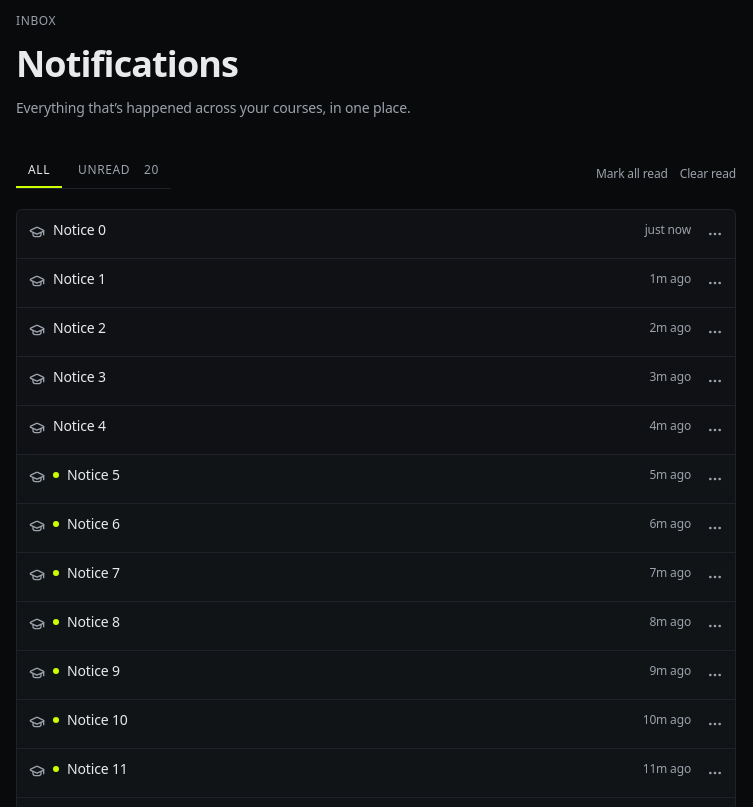
it: NotificationsPage › deletes a row from its kebab without firing navigation or read
This screenshot has width=753, height=807.
Expected: the text "Notice 0" is shown, [53,220,106,240]
Click the button named "Actions for “Notice 7”": (715, 577) [699,561,731,593]
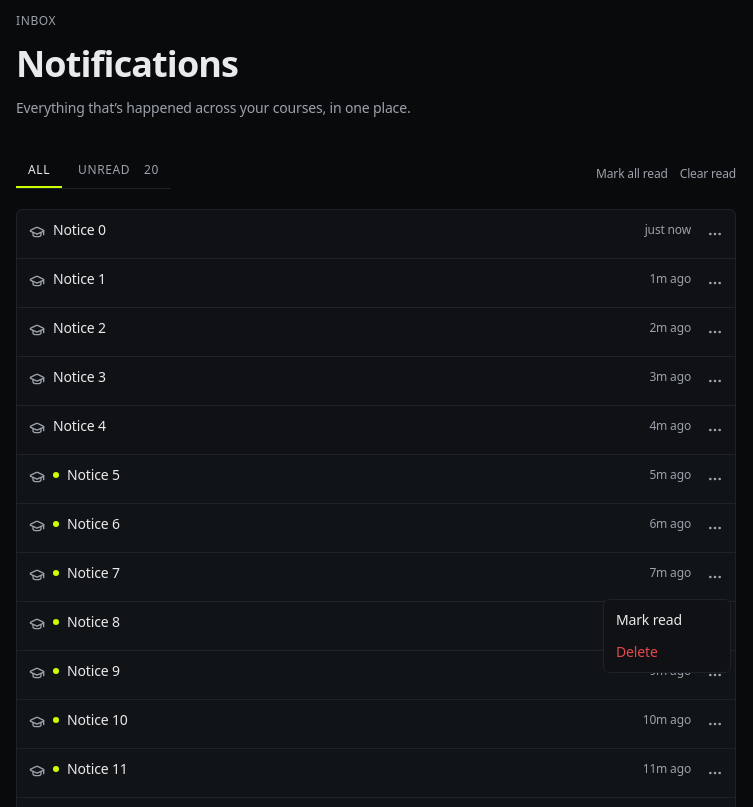
Click the menu item "Delete": (637, 652) [616,642,658,661]
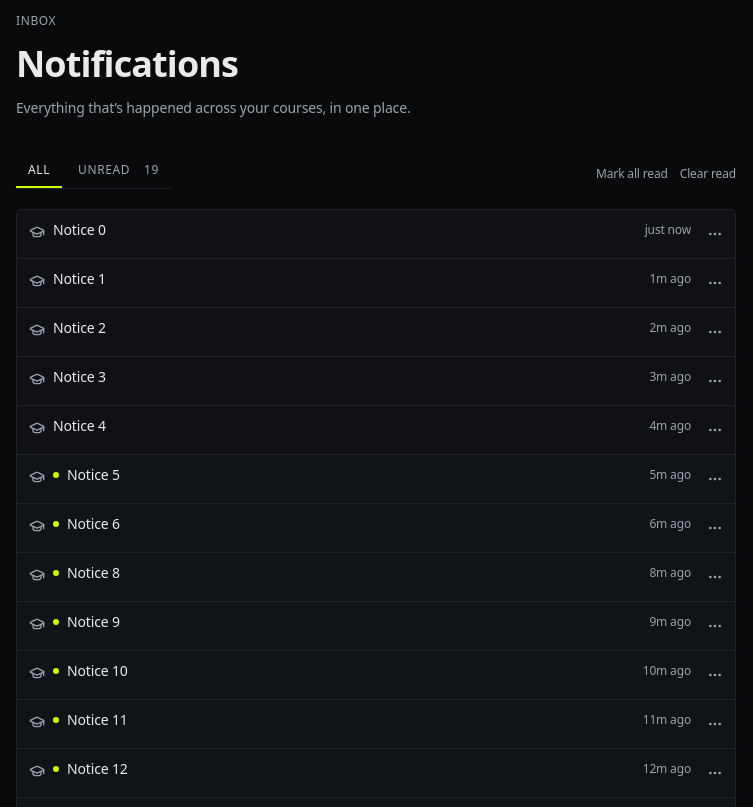
Result: the button "Notice 7" is gone
